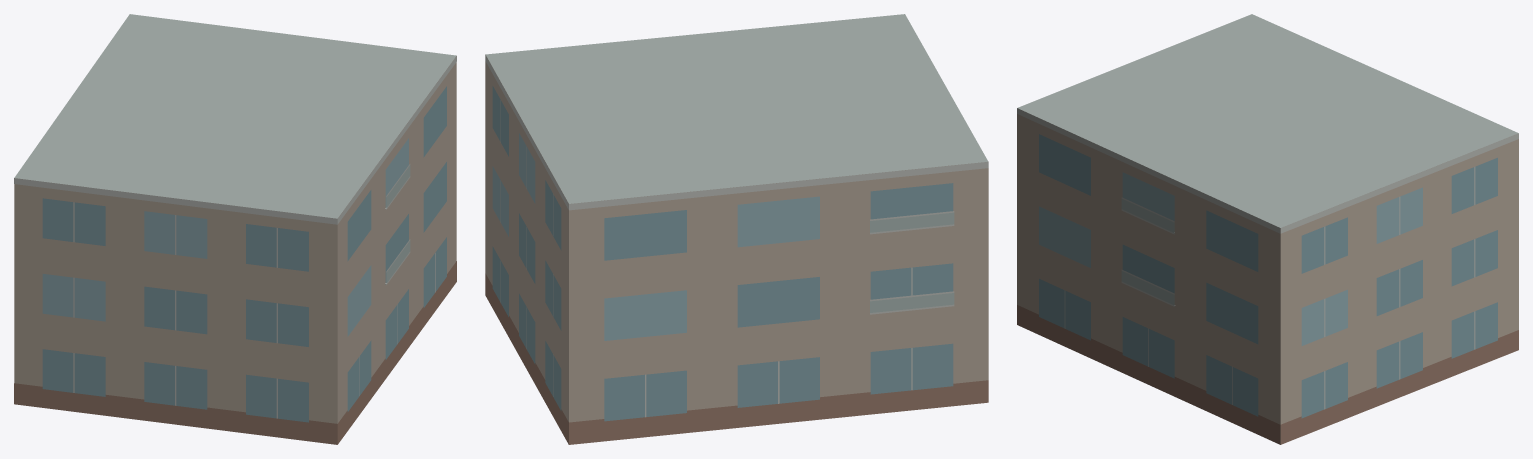
File: survey-upis-32648308.glb
3 renders of one model, left to right at view 1: azimuth 30°, elevation 25°; view 2: azimuth 150°, elevation 25°; view 3: azimuth 270°, elevation 25°, orthographic. The views are drawn at different scales.
Parts seen in each view (by area): view 1: survey-upis-32648308.tmp; view 2: survey-upis-32648308.tmp; view 3: survey-upis-32648308.tmp.
Part boxes in pixels (x1,y1,x2,y2): survey-upis-32648308.tmp: (14,14,456,444); survey-upis-32648308.tmp: (485,14,988,444); survey-upis-32648308.tmp: (1017,14,1518,444).
Bounding box in the file's own units: 19.38 × 9.15 × 19.19.
